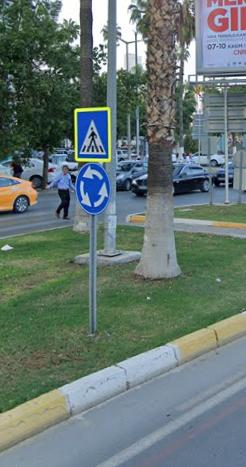crossroads: (76, 166, 112, 209)
